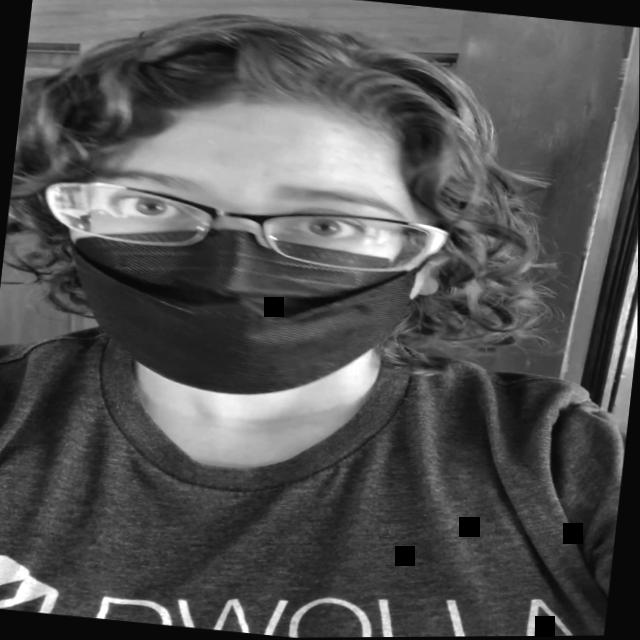Mask: (50, 74, 452, 418)
